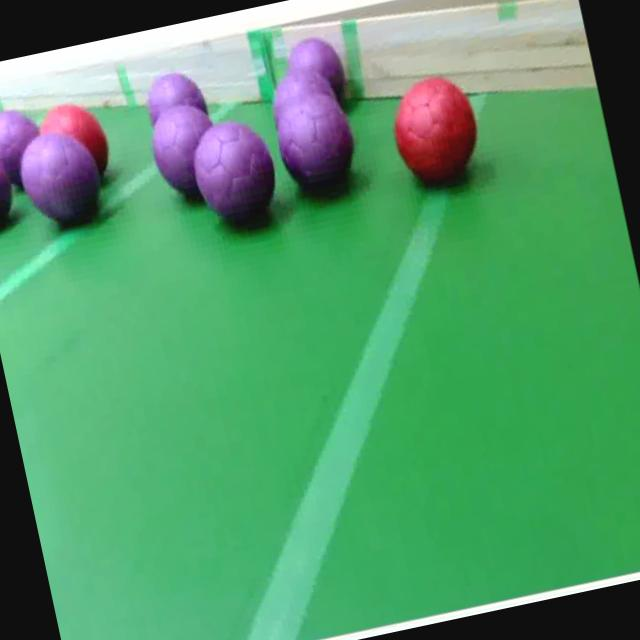purple_ball: (182, 110, 285, 238), (271, 86, 362, 204), (147, 100, 231, 210), (15, 138, 104, 236), (0, 100, 47, 195), (143, 69, 207, 122), (271, 65, 336, 110), (286, 30, 346, 76), (0, 134, 17, 232)
red_ball: (382, 63, 493, 198), (40, 98, 102, 138)
